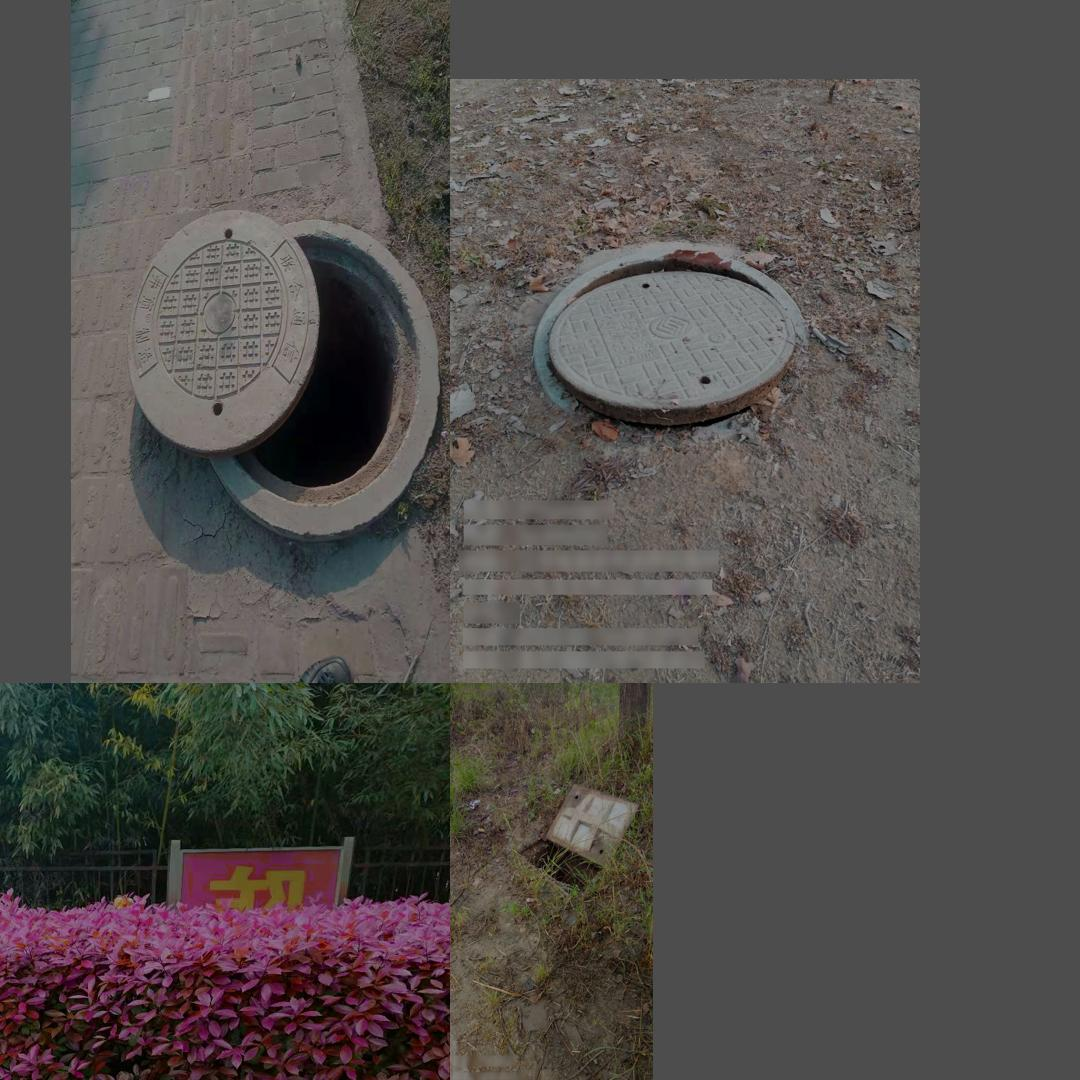uncovered: (129, 207, 438, 533), (532, 246, 807, 448), (516, 783, 640, 894)
